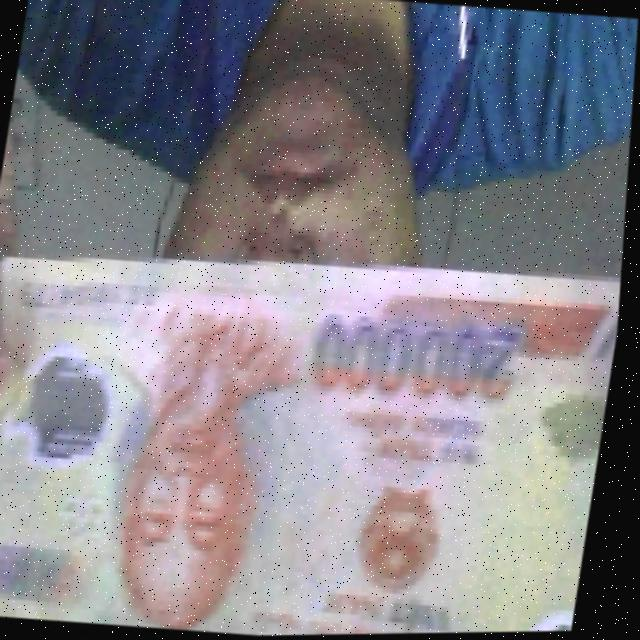200 000 VND: (0, 234, 627, 640)
